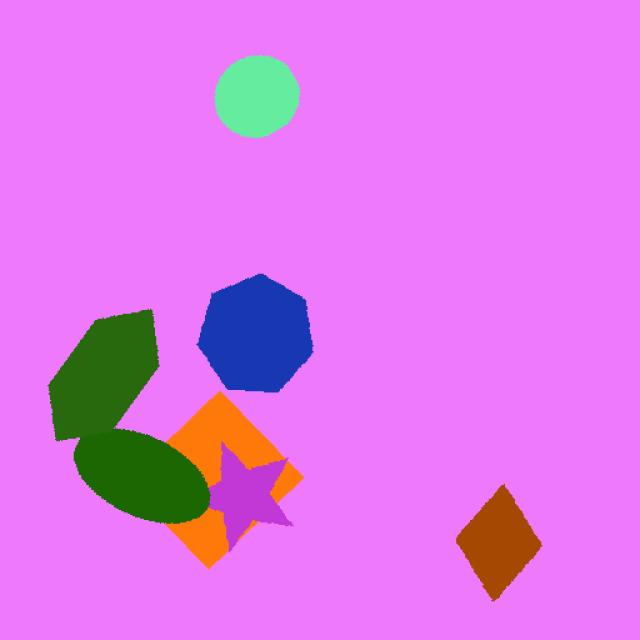Circle: (198, 50, 306, 149)
Heptagon: (193, 262, 328, 394)
Hexagon: (35, 300, 175, 453)
Oval: (67, 411, 211, 528)
Star: (186, 438, 302, 561)
square: (138, 375, 298, 569), (412, 471, 544, 626)
